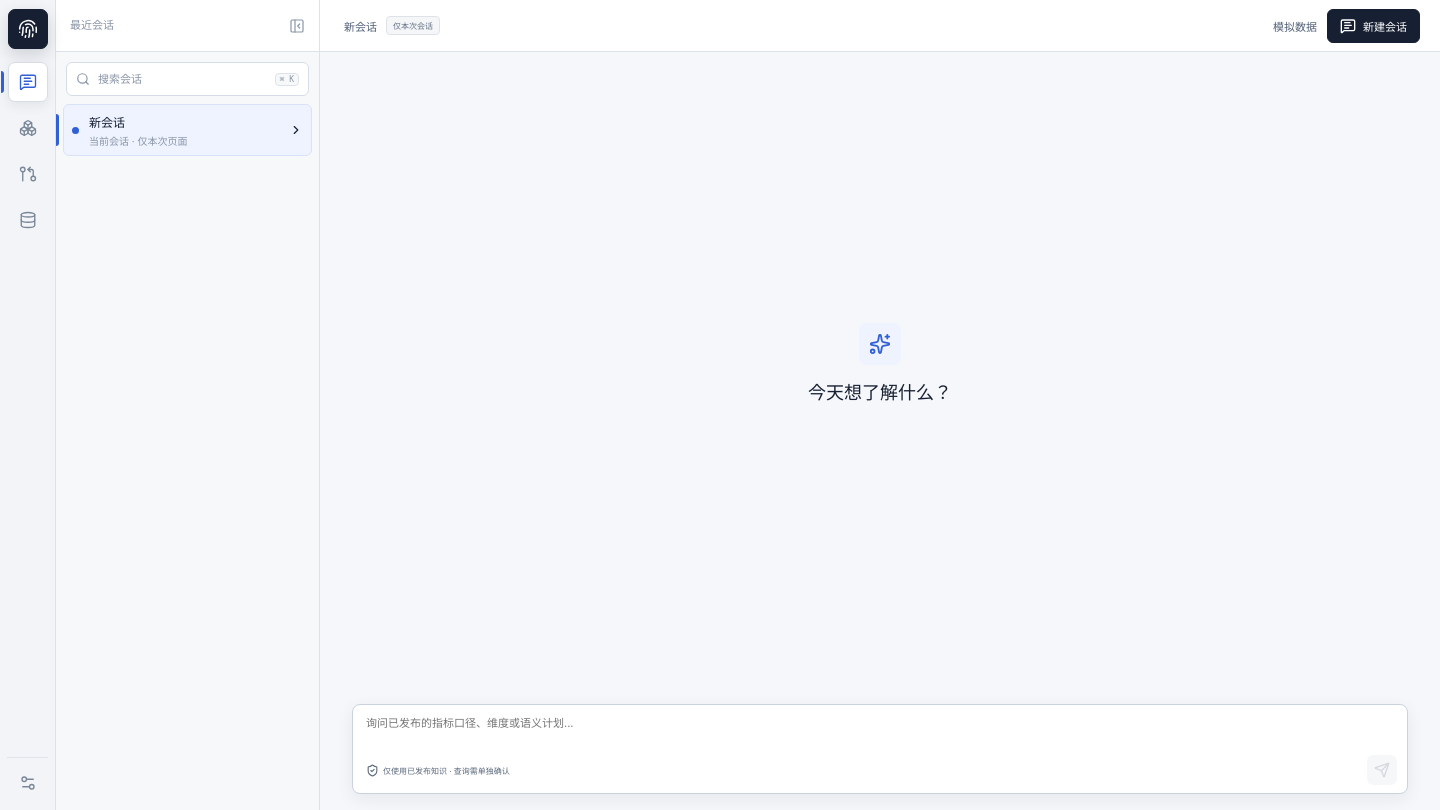
governance API convergence › renders governance failures as error states and never falls back to fixture data
Click the button named "待办" at point(28, 174), box [8,154,48,194]
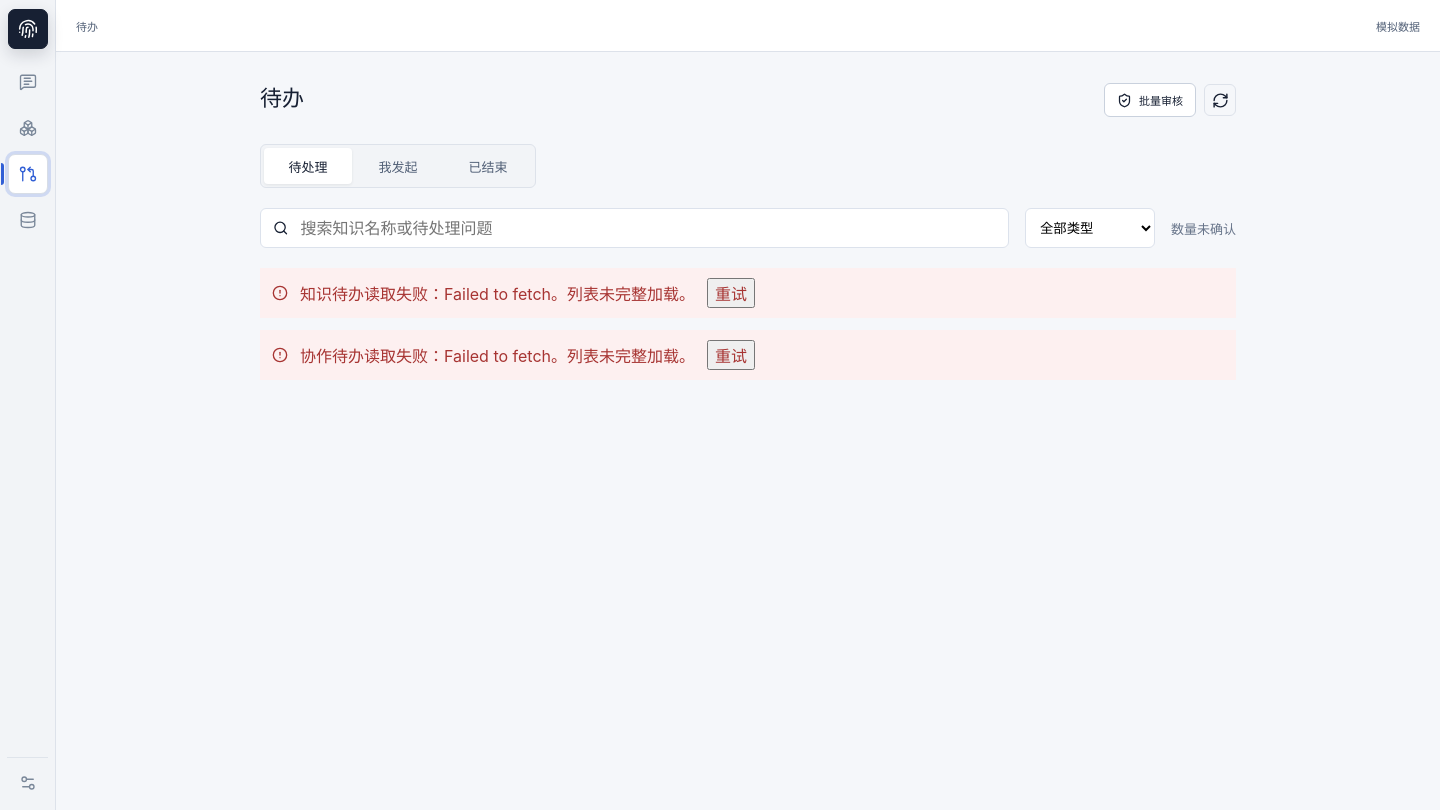
Click the button "批量审核" at point(1150, 100), box [1104,83,1196,117]
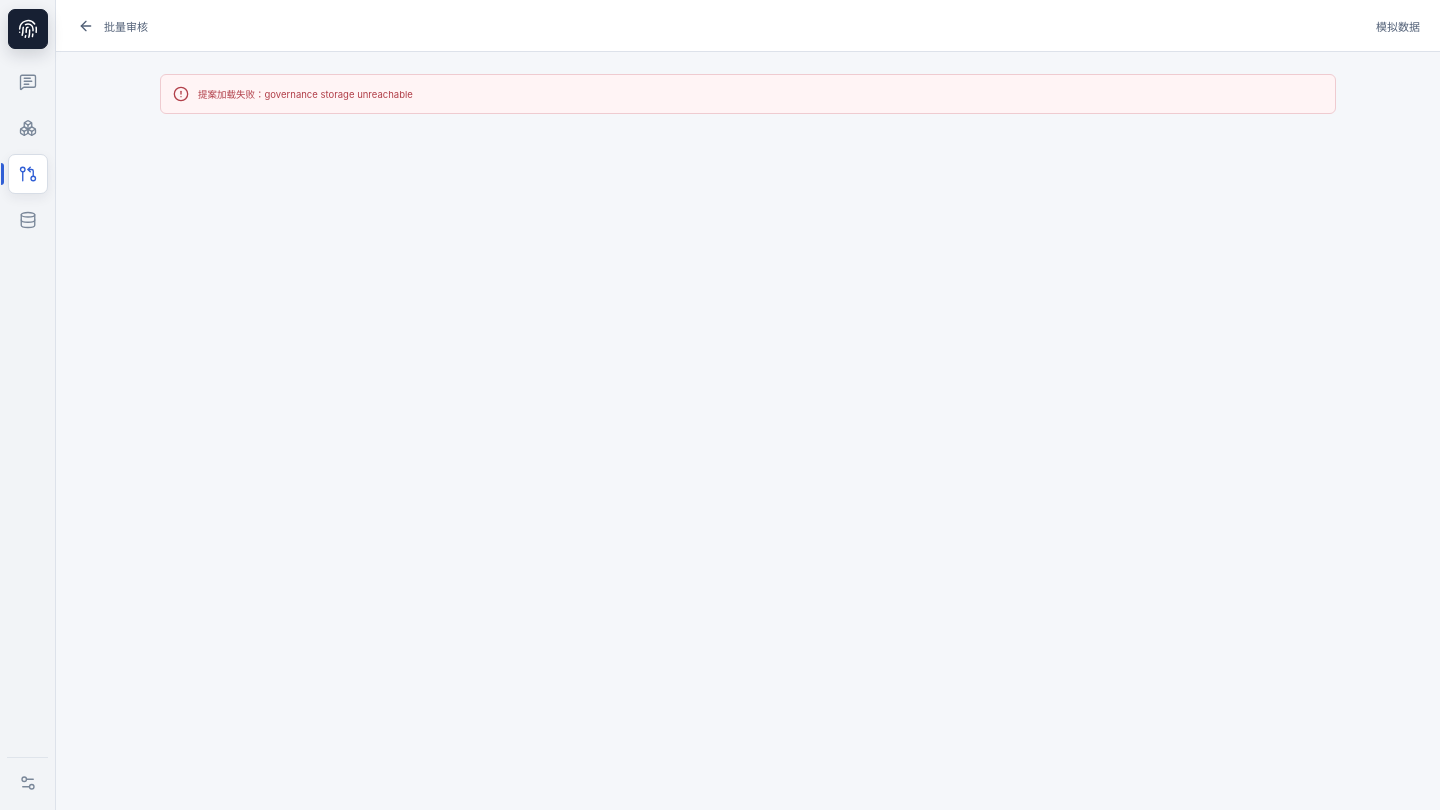
Click the button named "系统设置" at point(28, 783), box [8,765,48,801]
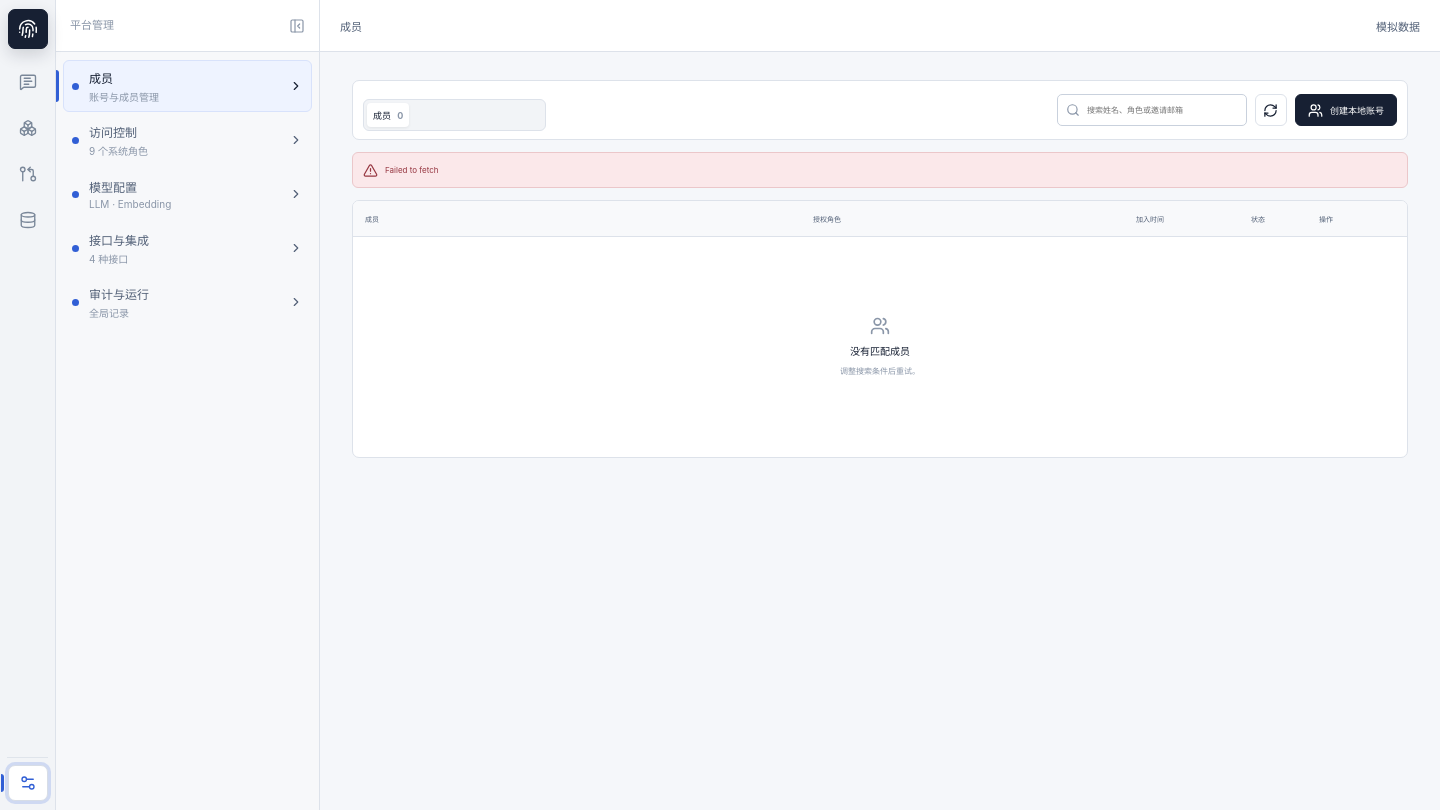
Click the button "模型配置 LLM · Embedding" at point(188, 194), box [63,168,312,220]
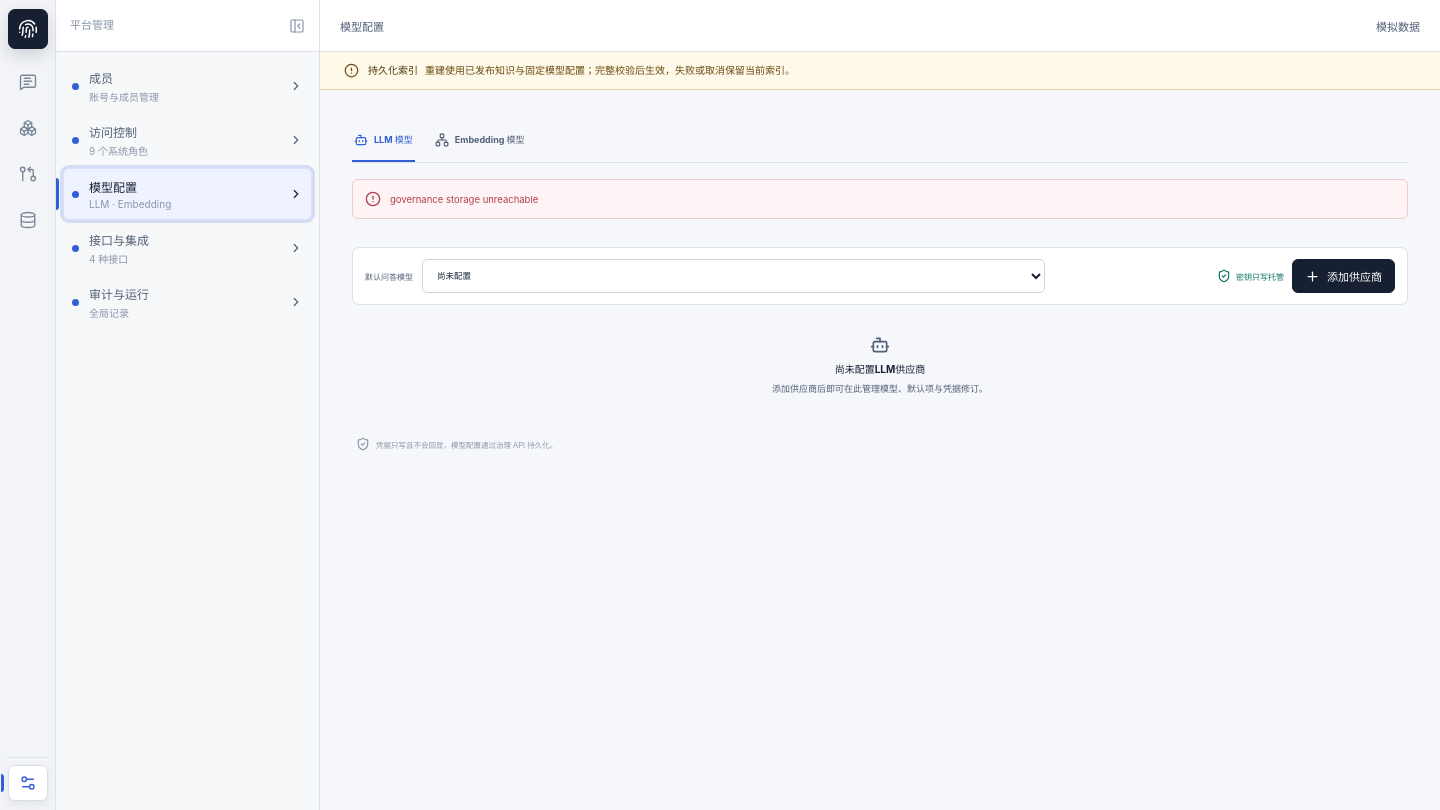
Expected: the message "governance storage unreachable" is shown, [352,179,1408,219]
